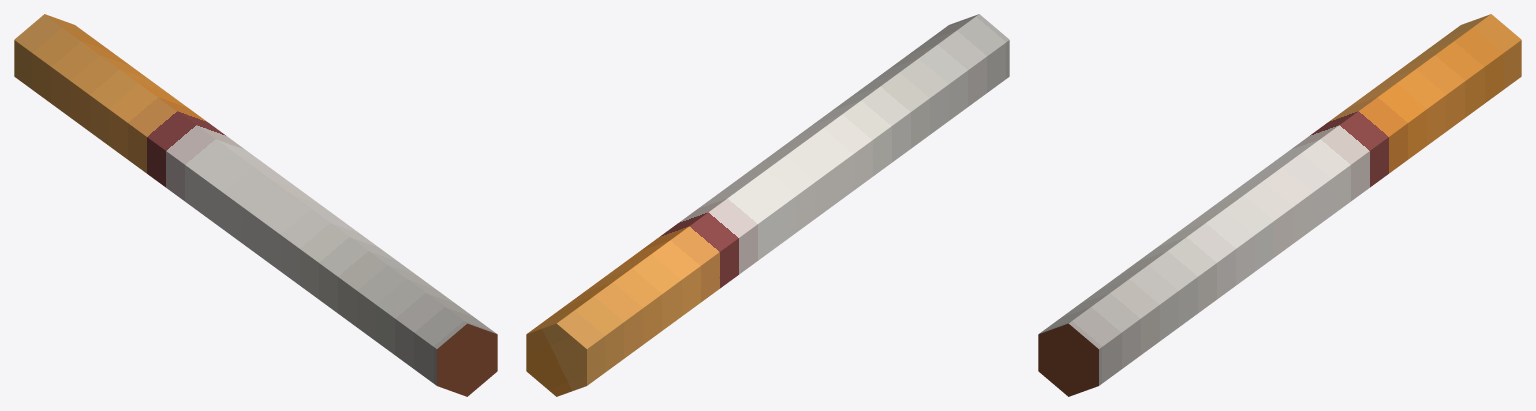
The model's file is Cigarette4.fbx.
The picture shows the model from 3 angles, left to right: view 1: azimuth 30°, elevation 25°; view 2: azimuth 150°, elevation 25°; view 3: azimuth 330°, elevation 25°; orthographic projection.
Parts seen in each view (by area): view 1: Cigarette4; view 2: Cigarette4; view 3: Cigarette4.
Boxes of the visible parts, x1,y1,x2,y2 form: Cigarette4: (14, 14, 497, 396); Cigarette4: (526, 14, 1009, 396); Cigarette4: (1038, 14, 1521, 396).
Size of the model in its own units: 0.00557 by 0.00644 by 0.0671.
Materials: 1 (1 with a texture image).
